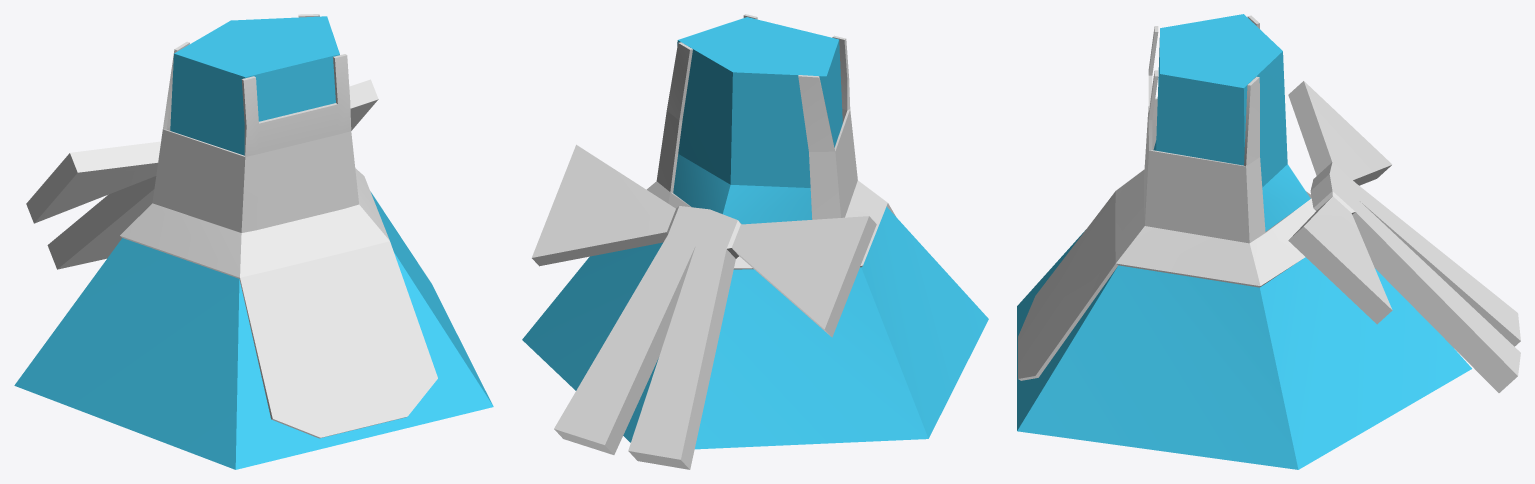
The model's file is body.obj.
The picture shows the model from 3 angles, left to right: view 1: azimuth 30°, elevation 25°; view 2: azimuth 150°, elevation 25°; view 3: azimuth 270°, elevation 25°; orthographic projection. The views are drawn at different scales.
Parts seen in each view (by area): view 1: 円柱.006; view 2: 円柱.006; view 3: 円柱.006.
Part boxes in pixels (x1,y1,x2,y2): 円柱.006: (14, 14, 493, 469); 円柱.006: (522, 14, 988, 469); 円柱.006: (1017, 14, 1520, 469).
Bounding box in the file's own units: 2.56 × 1.88 × 2.69.
1 material, 1 textured.
